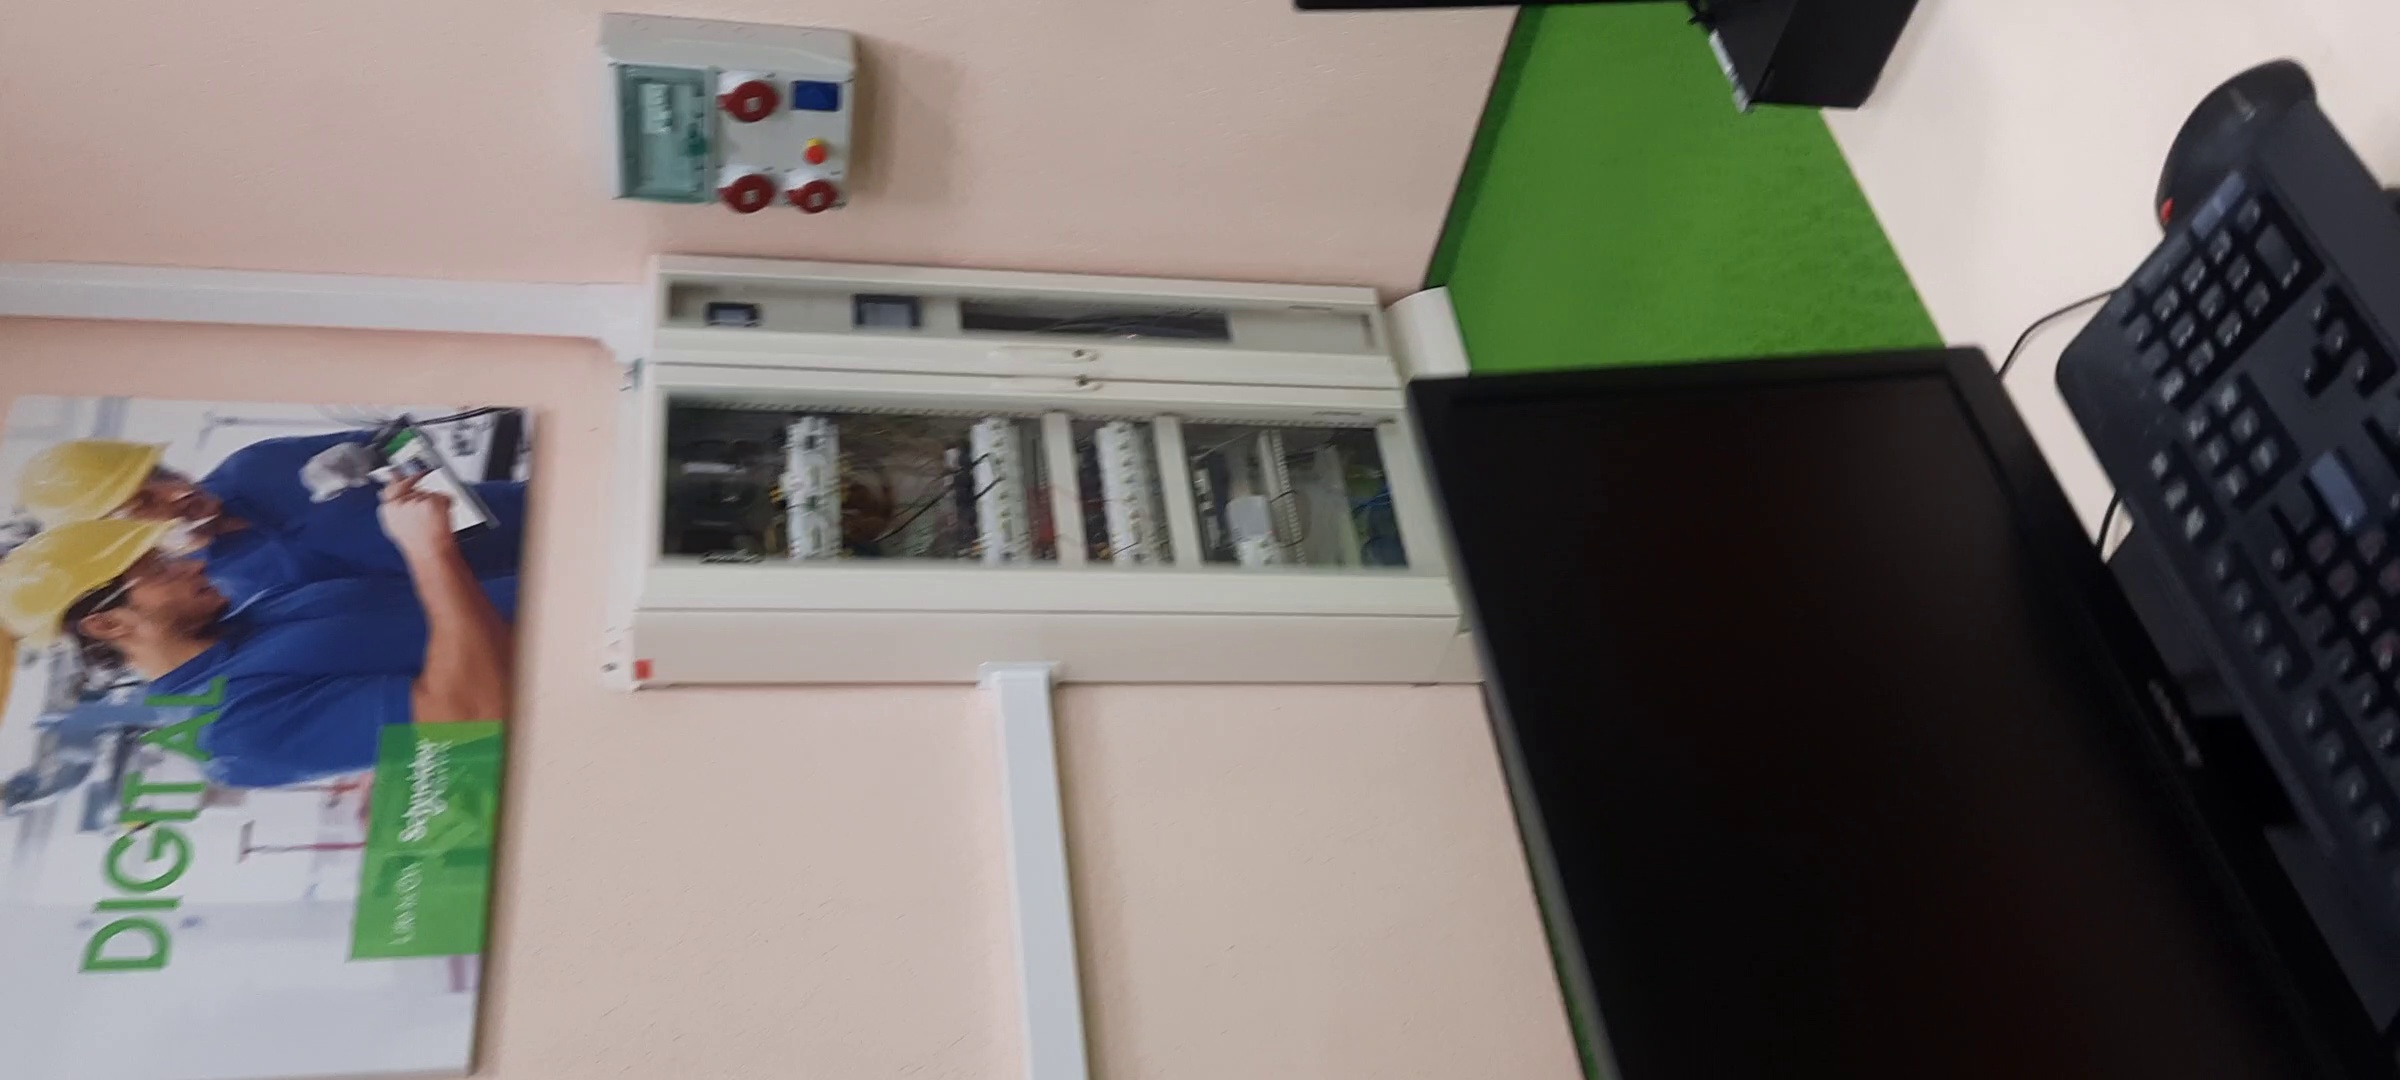stand1: (615, 251, 1541, 695)
